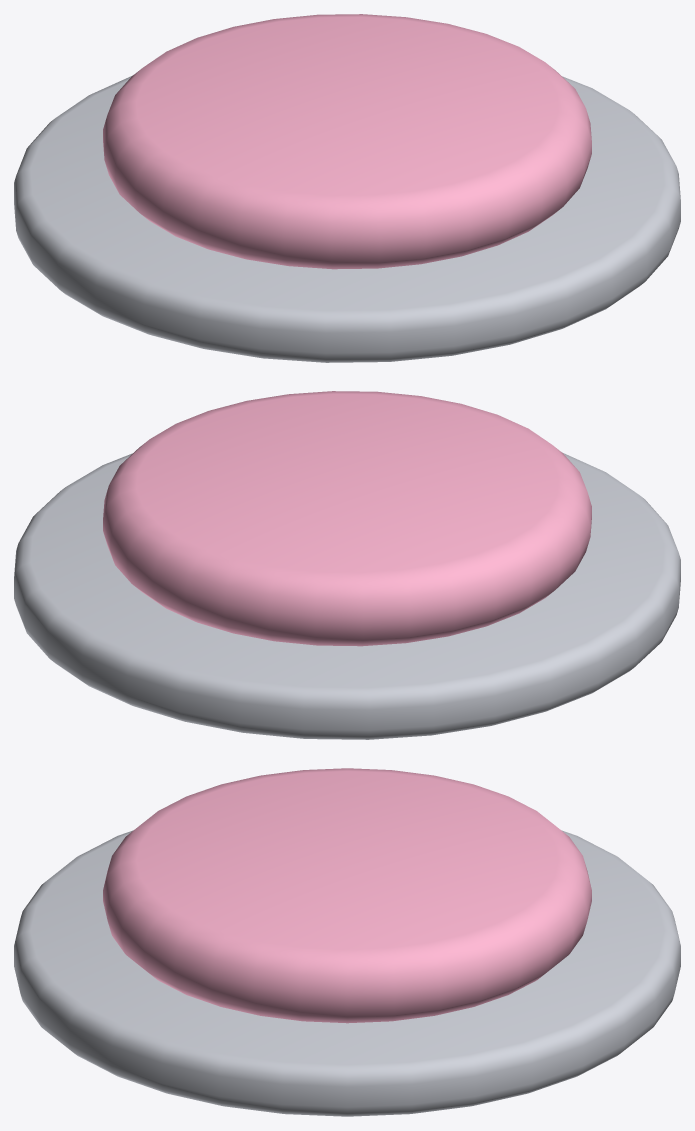
The model's file is switch.fbx.
3 renders of one model, top to bottom at view 1: azimuth 30°, elevation 25°; view 2: azimuth 150°, elevation 25°; view 3: azimuth 270°, elevation 25°, orthographic.
Parts seen in each view (by area): view 1: Switch; view 2: Switch; view 3: Switch.
Part boxes in pixels (left/top/right/bottom): Switch: left=14, top=14, right=680, bottom=362; Switch: left=14, top=391, right=680, bottom=739; Switch: left=14, top=768, right=680, bottom=1116.
Bounding box in the file's own units: 0.6 × 0.12 × 0.6.
